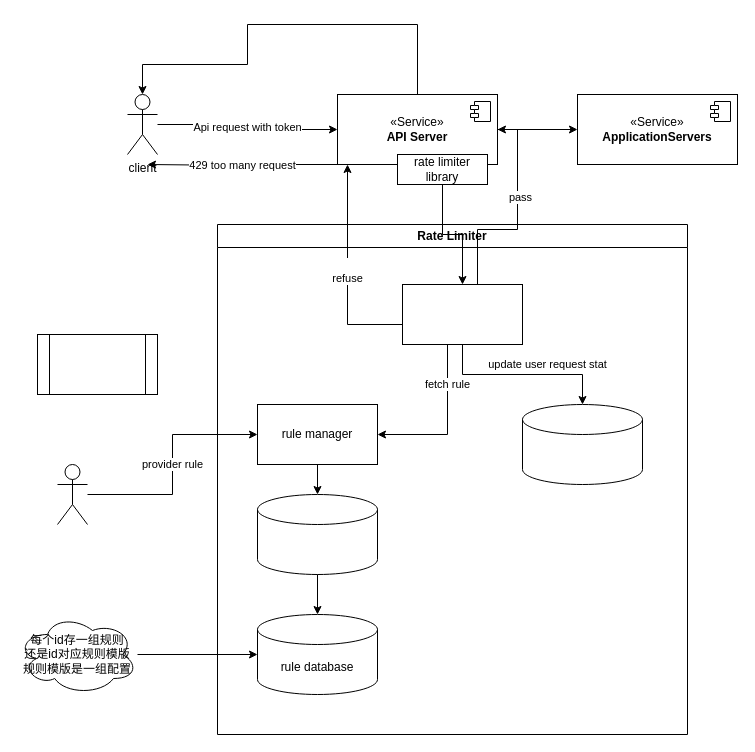
The diagram is 755 pixels wide and 752 high, and some of its shapes have lost their labels. The centre of each missing label's shape, as x and y in pixels:
admin: the point at 72,494
desicion marker: the point at 462,314
rule cache: the point at 317,534
rule stat data redis: the point at 582,444
